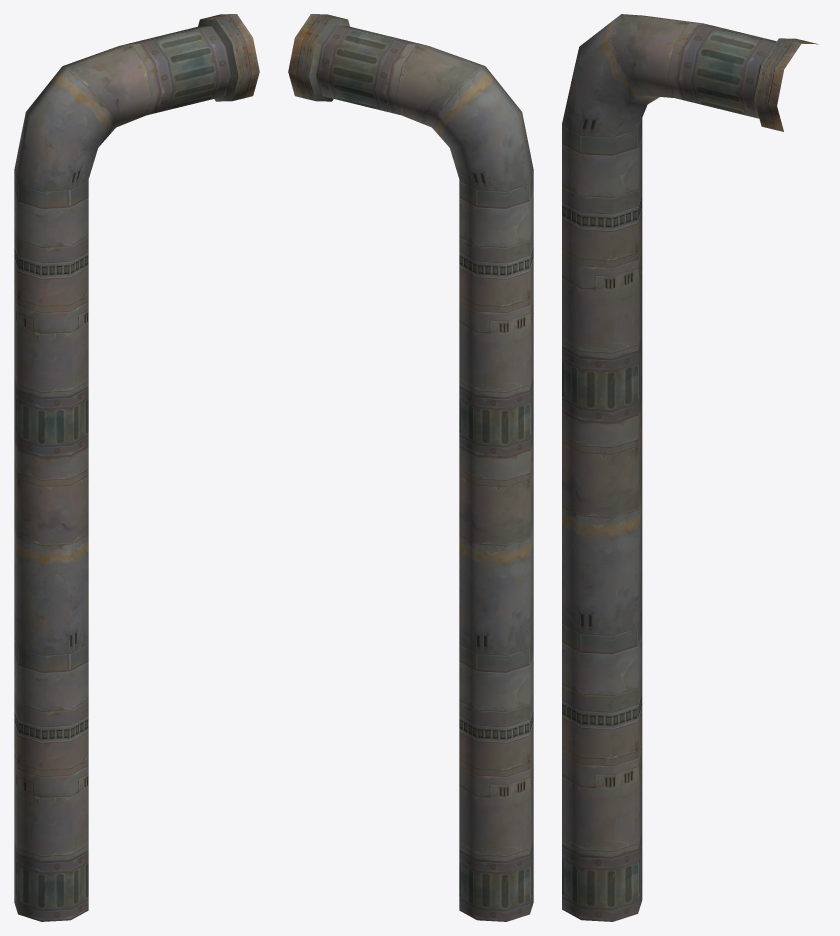
File: all_arch_und_gen_parts_pipestanding_06.glb
3 views of the same model, side by side, from view 1: azimuth 30°, elevation 25°; view 2: azimuth 150°, elevation 25°; view 3: azimuth 330°, elevation 25° (orthographic). The views are drawn at different scales.
Visible parts, largest first — view 1: all_arch_und_gen_parts_pipestanding_06; view 2: all_arch_und_gen_parts_pipestanding_06; view 3: all_arch_und_gen_parts_pipestanding_06.
Part boxes in pixels (x1,y1,x2,y2): all_arch_und_gen_parts_pipestanding_06: (14,14,259,921); all_arch_und_gen_parts_pipestanding_06: (288,14,533,921); all_arch_und_gen_parts_pipestanding_06: (562,14,818,921).
Bounding box in the file's own units: 0.3275 × 1.21 × 0.1178.
Materials: 1 (1 with a texture image).
